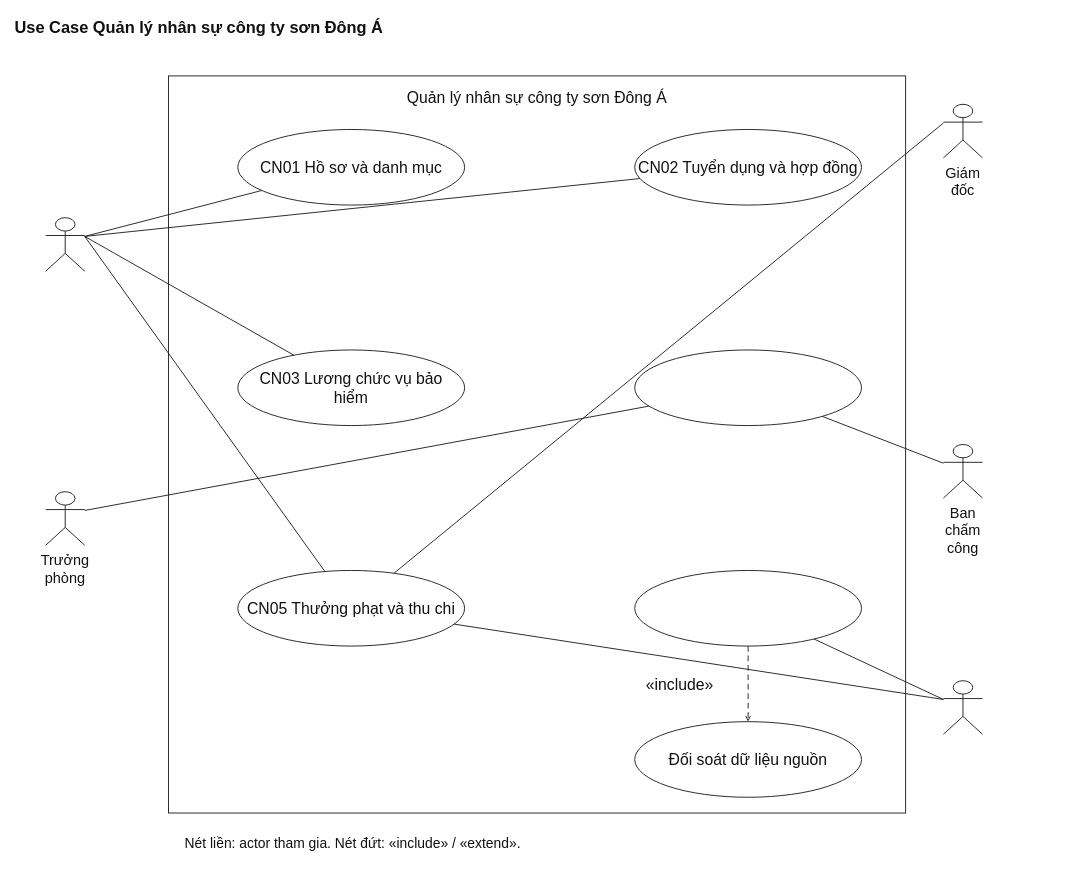
Some shapes in this 1067 by 874 pixel diagram are drawn without their labels. Here are the shapes that lost their labels. From the top down, the box of each, then its label:
(45, 217, 85, 271): Nhân sự
(634, 349, 862, 426): CN04 Phân công công phụ trội
(634, 570, 862, 646): CN06 Tính và chốt lương
(943, 680, 983, 734): Kế toán
